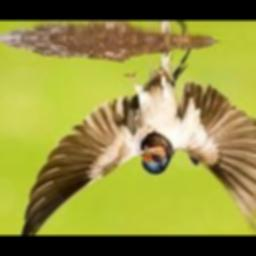Swallow: (20, 50, 256, 235)
